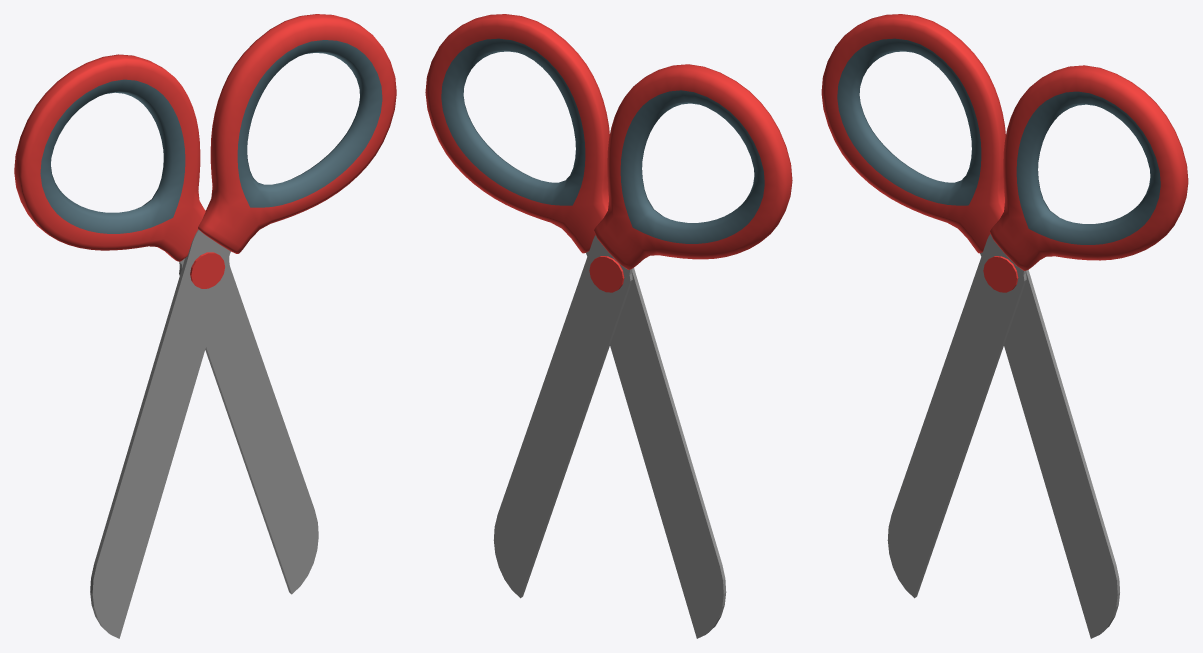
Rendered from scissors.fbx.
3 views of the same model, side by side, from view 1: azimuth 30°, elevation 25°; view 2: azimuth 150°, elevation 25°; view 3: azimuth 330°, elevation 25° (orthographic).
Visible parts, largest first — view 1: Plane.342; view 2: Plane.342; view 3: Plane.342.
Part boxes in pixels (bbox=[...]): Plane.342: bbox=[14, 14, 396, 638]; Plane.342: bbox=[425, 14, 792, 638]; Plane.342: bbox=[821, 14, 1188, 638].
Bounding box in the file's own units: 157 × 235 × 15.51.
Materials: 1 (1 with a texture image).
